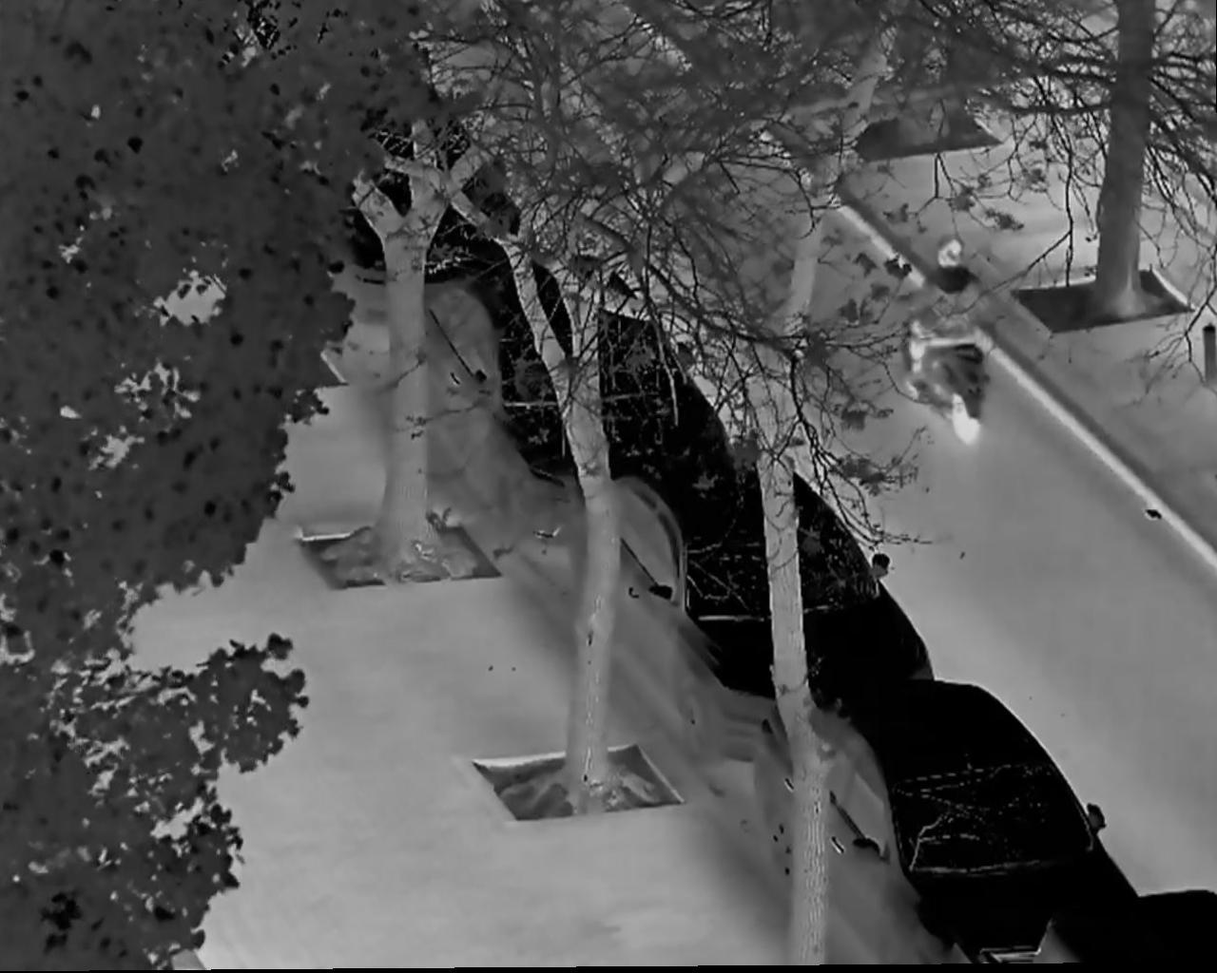person: (907, 235, 987, 396)
